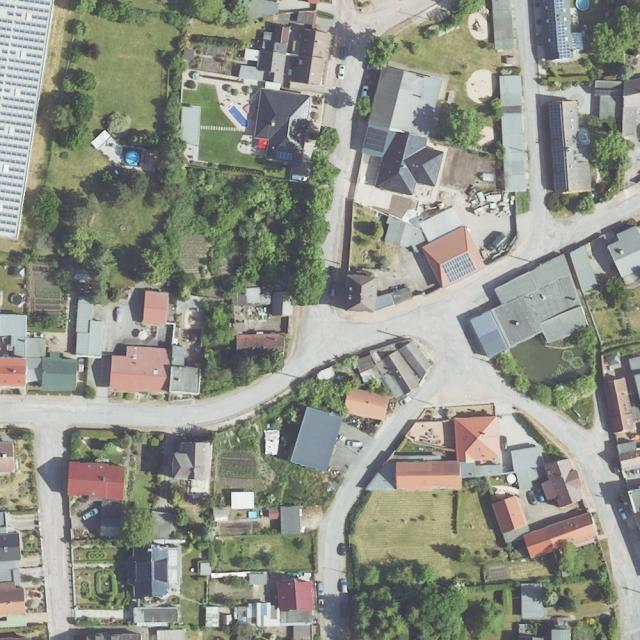PV: (0, 0, 51, 235), (548, 105, 567, 191), (546, 0, 570, 58), (442, 252, 476, 282), (364, 127, 387, 153), (168, 550, 177, 582), (384, 179, 404, 193)
ST: (275, 152, 293, 161)
